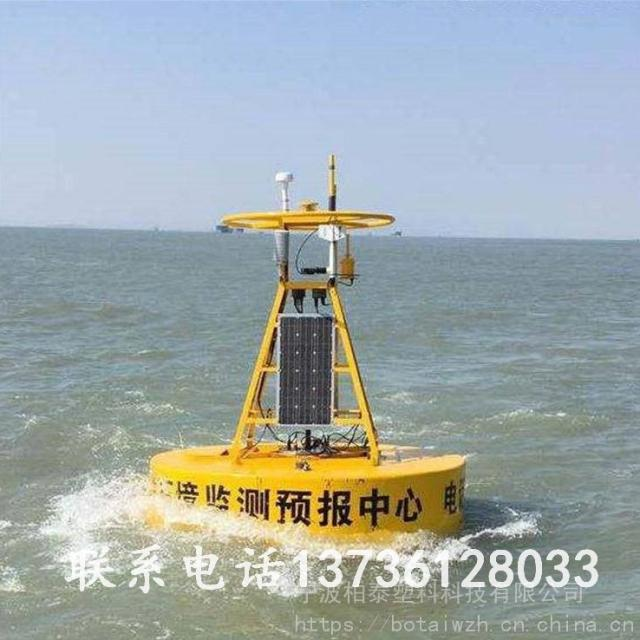buoy: (137, 153, 470, 552)
